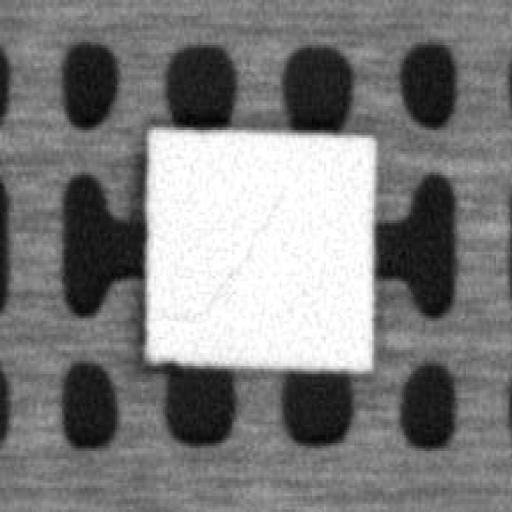DIE_CRACK: (204, 186, 287, 294)
